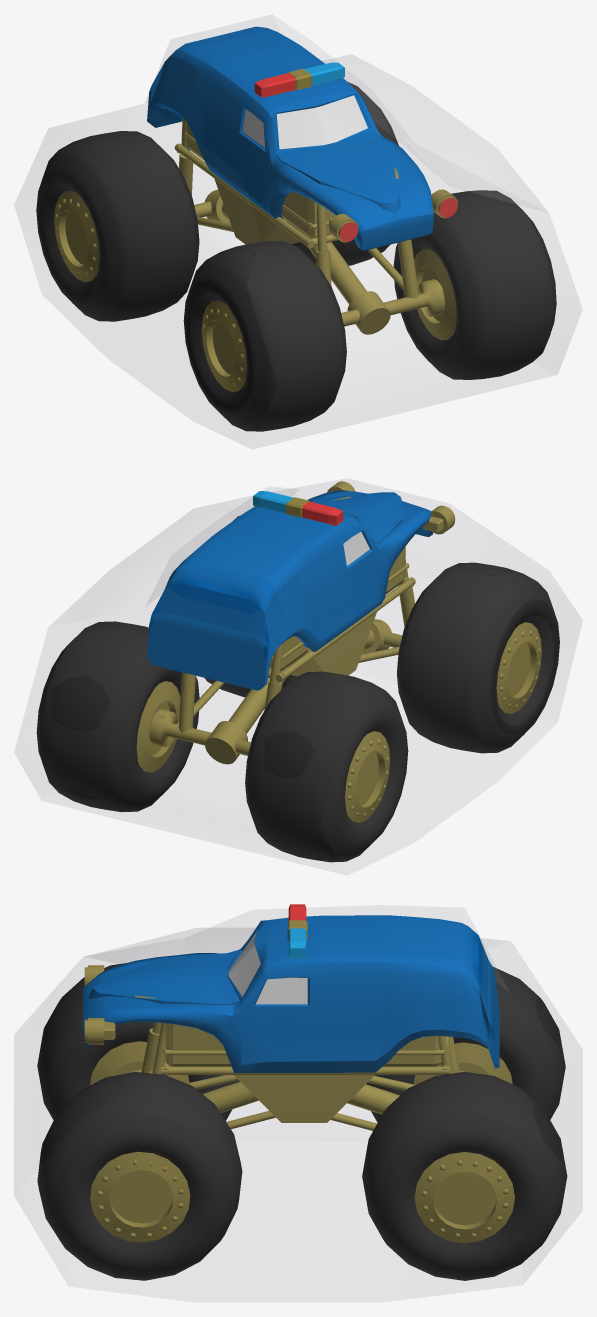
Rendered from TruckDone.fbx.
3 renders of one model, top to bottom at view 1: azimuth 30°, elevation 25°; view 2: azimuth 150°, elevation 25°; view 3: azimuth 270°, elevation 25°, orthographic. The views are drawn at different scales.
Visible parts, largest first — view 1: Car1, PhysicsMesh; view 2: Car1, PhysicsMesh; view 3: Car1, PhysicsMesh.
Boxes of the visible parts, x1,y1,x2,y2 form: Car1: (36,26,556,431); PhysicsMesh: (14,15,582,448); Car1: (36,481,559,862); PhysicsMesh: (14,479,582,874); Car1: (37,904,567,1280); PhysicsMesh: (14,905,582,1301).
Size of the model in its own units: 631 by 543 by 938.
